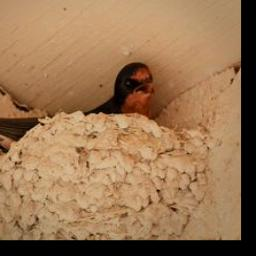Swallow: (0, 59, 156, 163)
